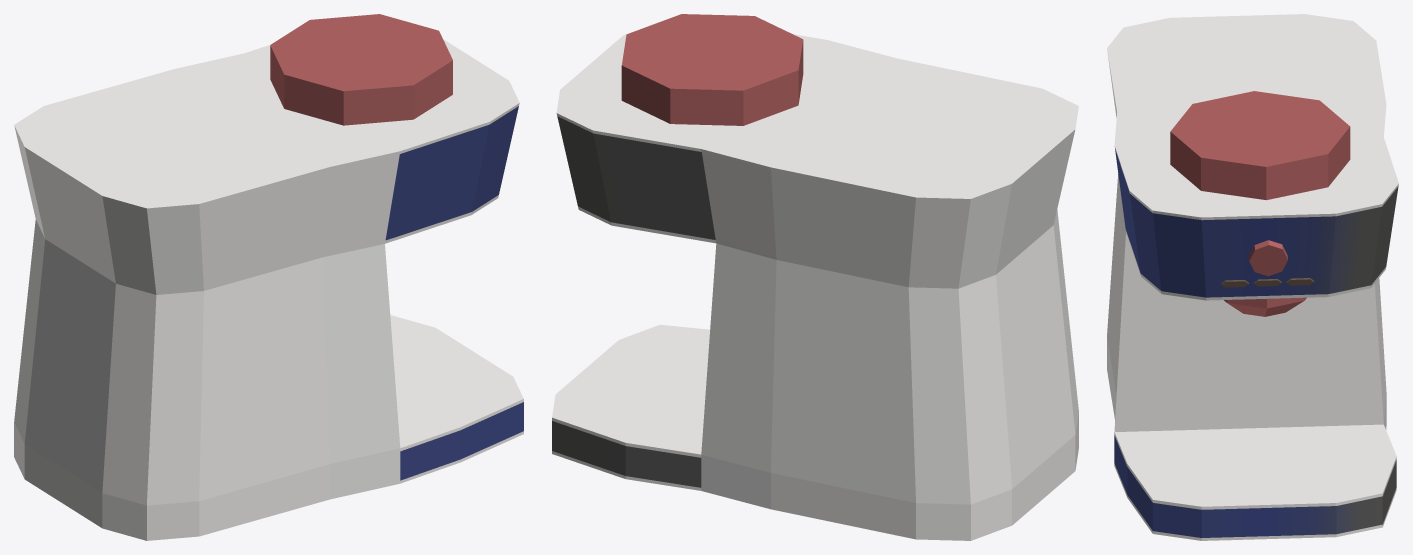
File: Kitchen_2_CoffeeMachine.fbx
3 views of the same model, side by side, from view 1: azimuth 30°, elevation 25°; view 2: azimuth 150°, elevation 25°; view 3: azimuth 270°, elevation 25° (orthographic). The views are drawn at different scales.
Parts seen in each view (by area): view 1: Kitchen_2_CoffeeMachine; view 2: Kitchen_2_CoffeeMachine; view 3: Kitchen_2_CoffeeMachine.
Part boxes in pixels (x1=…): Kitchen_2_CoffeeMachine: x1=14, y1=14, x2=523, y2=540; Kitchen_2_CoffeeMachine: x1=552, y1=14, x2=1078, y2=540; Kitchen_2_CoffeeMachine: x1=1107, y1=14, x2=1398, y2=540.
Size of the model in its own units: 67.9 by 54.65 by 40.77.
